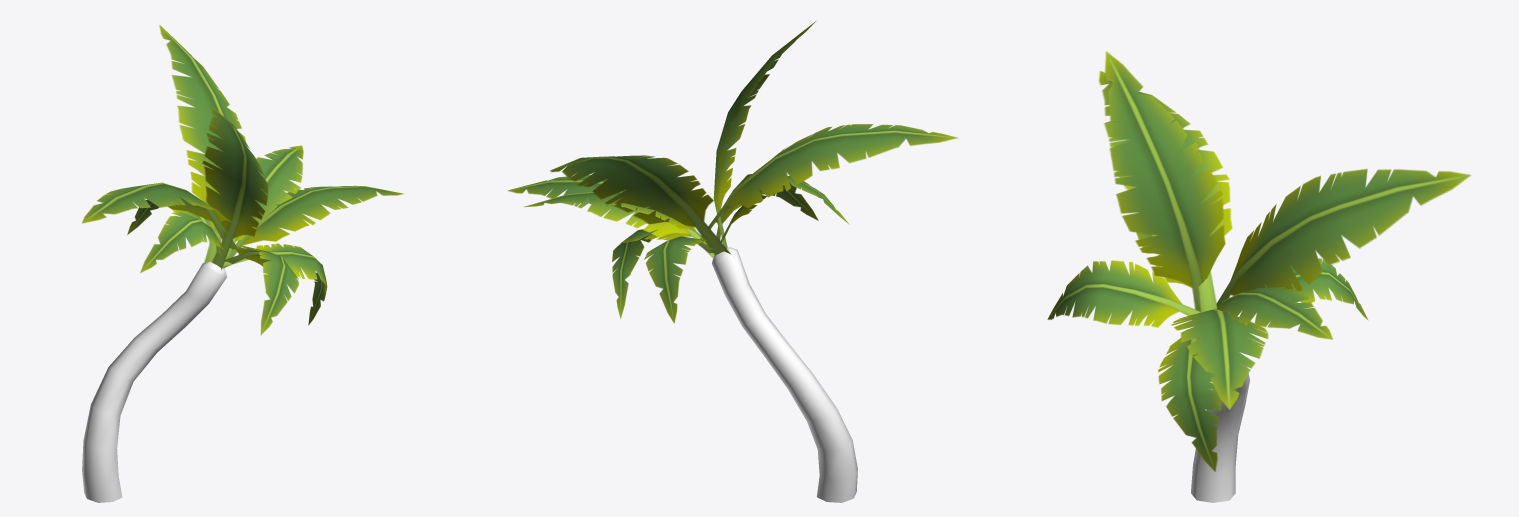
The model's file is palm_tree_2.glb.
3 views of the same model, side by side, from view 1: azimuth 30°, elevation 25°; view 2: azimuth 150°, elevation 25°; view 3: azimuth 270°, elevation 25° (orthographic). The views are drawn at different scales.
Visible parts, largest first — view 1: PalmTree_2.001; view 2: PalmTree_2.001; view 3: PalmTree_2.001.
Boxes of the visible parts, x1,y1,x2,y2 form: PalmTree_2.001: (82,25,404,502); PalmTree_2.001: (508,21,958,502); PalmTree_2.001: (1047,51,1470,502).
Bounding box in the file's own units: 5.58 × 5.28 × 4.77.
Materials: 2 (1 with a texture image).
